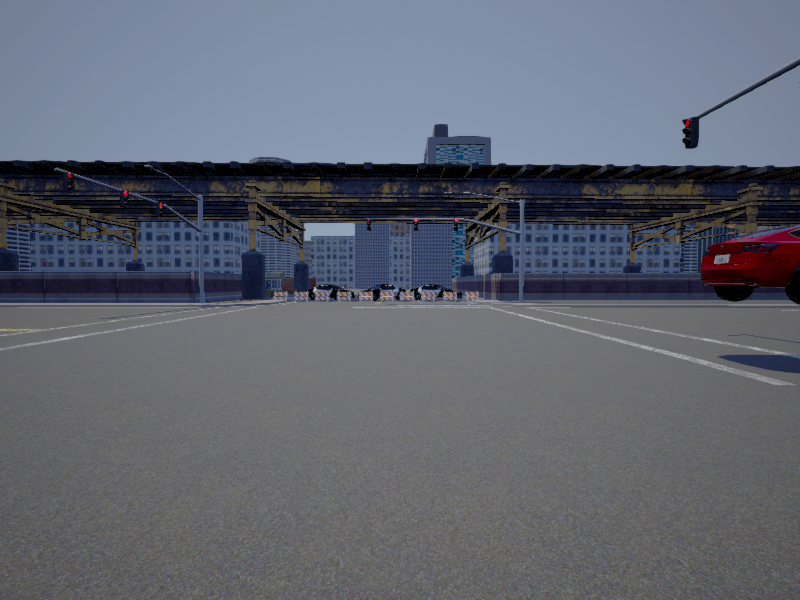Attacker: (701, 224, 800, 304)
